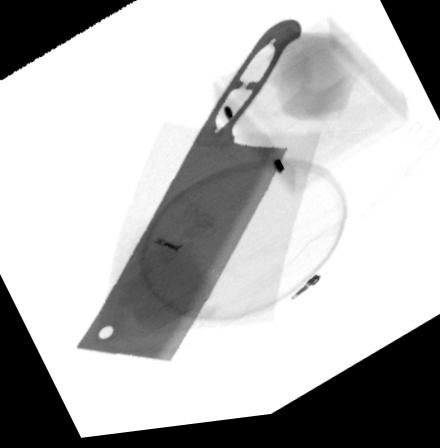Knife: (75, 24, 303, 367)
